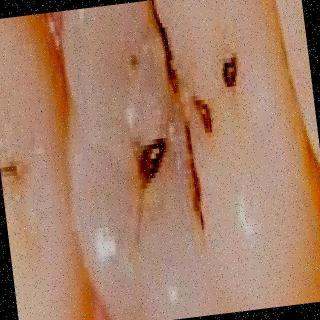cavities: (90, 5, 276, 242)
